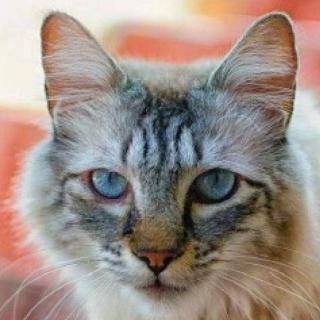cat: (32, 9, 305, 307)
nose: (119, 202, 200, 276)
